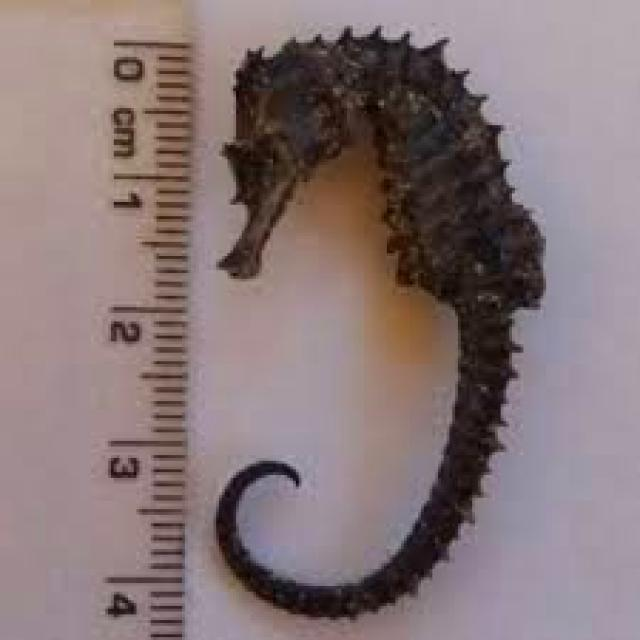seahorse: (216, 28, 543, 614)
